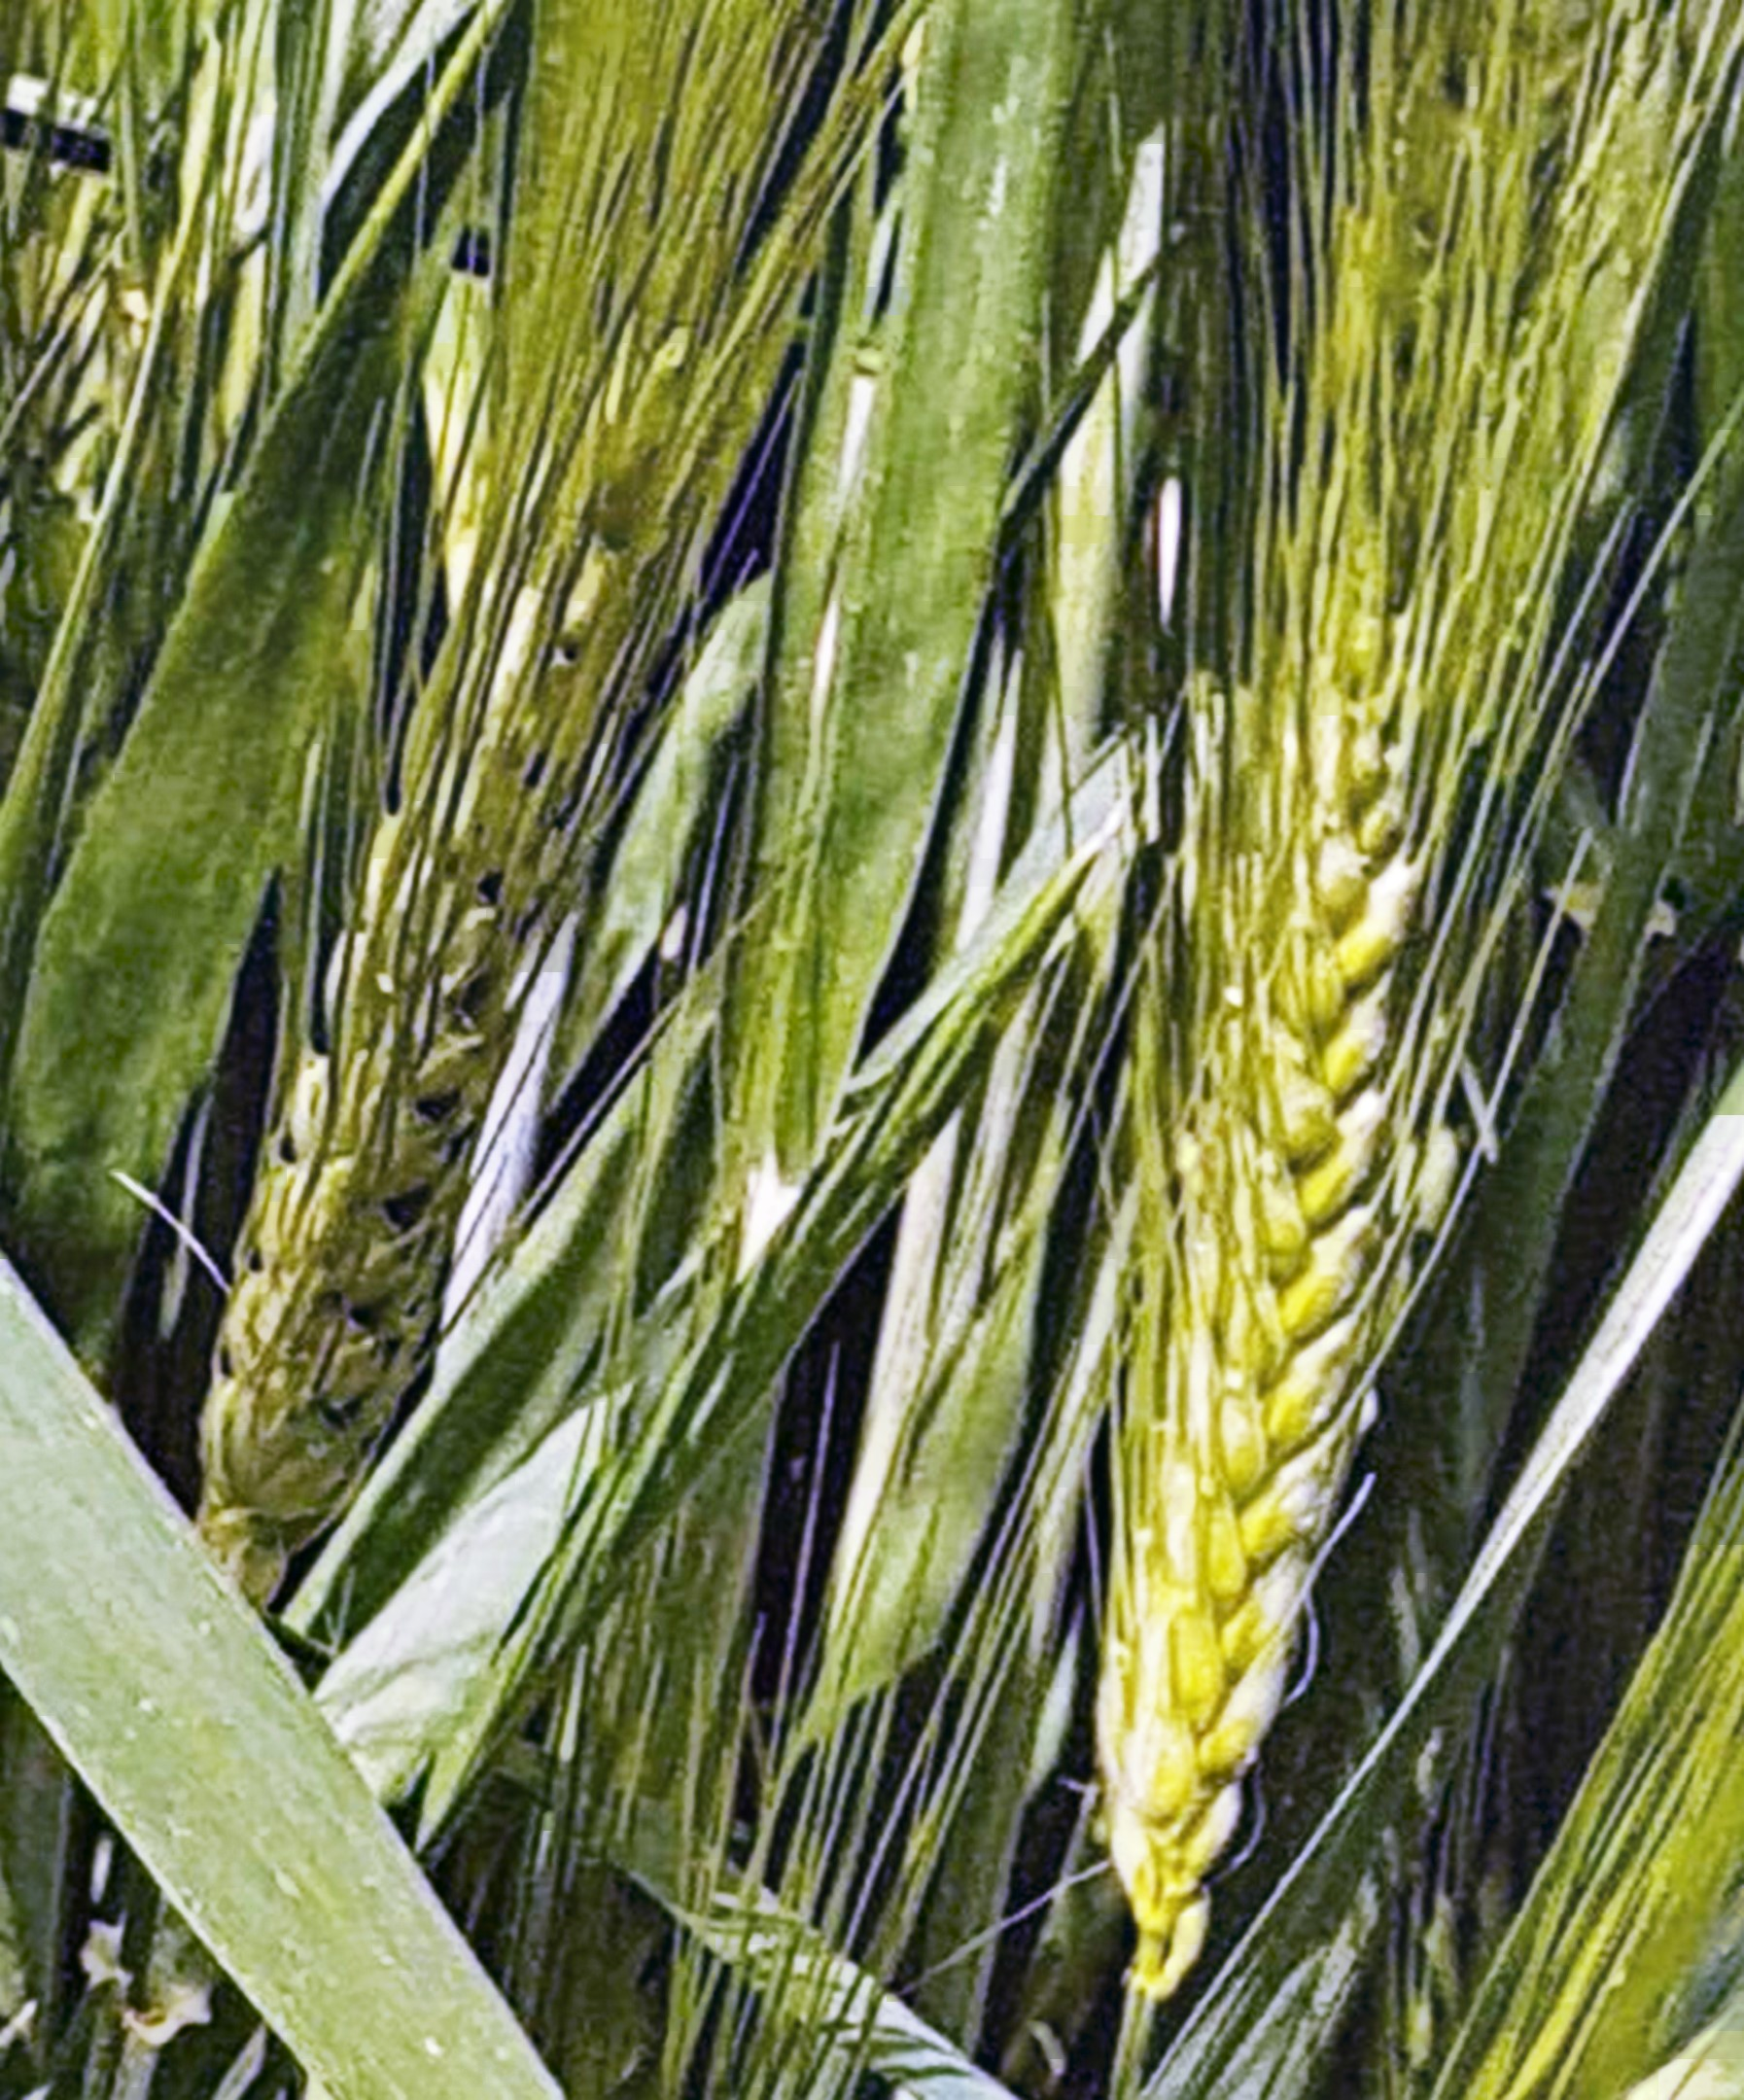Healthy Wheat: (1066, 699, 1529, 1868)
